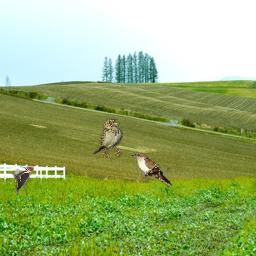Cuckoo: (132, 153, 172, 187)
Sparrow: (91, 118, 123, 158)
Woodpecker: (12, 166, 34, 195)
